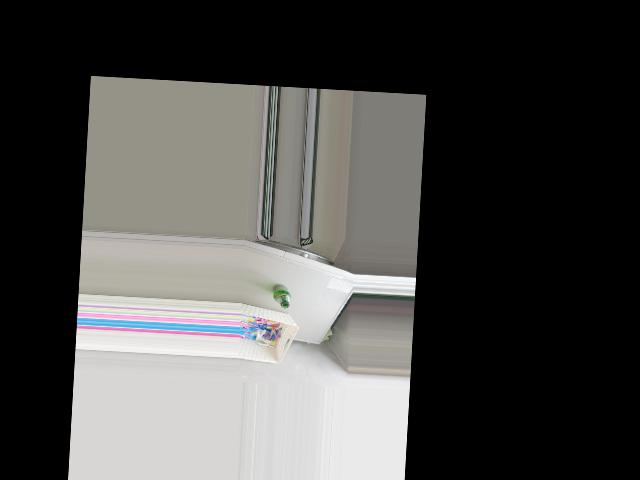beer: (271, 283, 290, 307)
